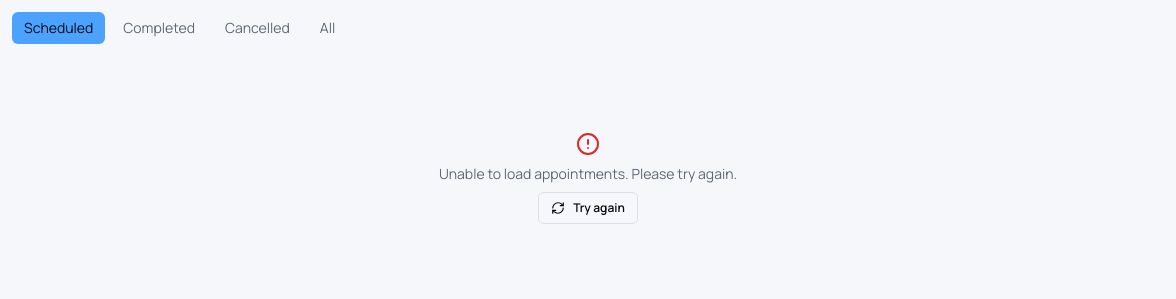
Test: AppointmentsQueueClient › shows a fetch error with retry
Expected: the text "Unable to load appointments. Please try again." is shown, [439,164,737,184]
Click the button "Try again" at (588, 208), box [538,192,638,224]
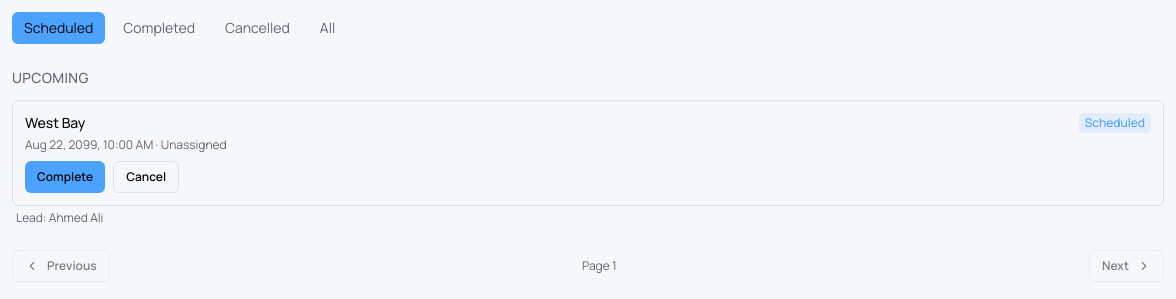
Expected: the text "West Bay" is shown, [25,113,85,132]
